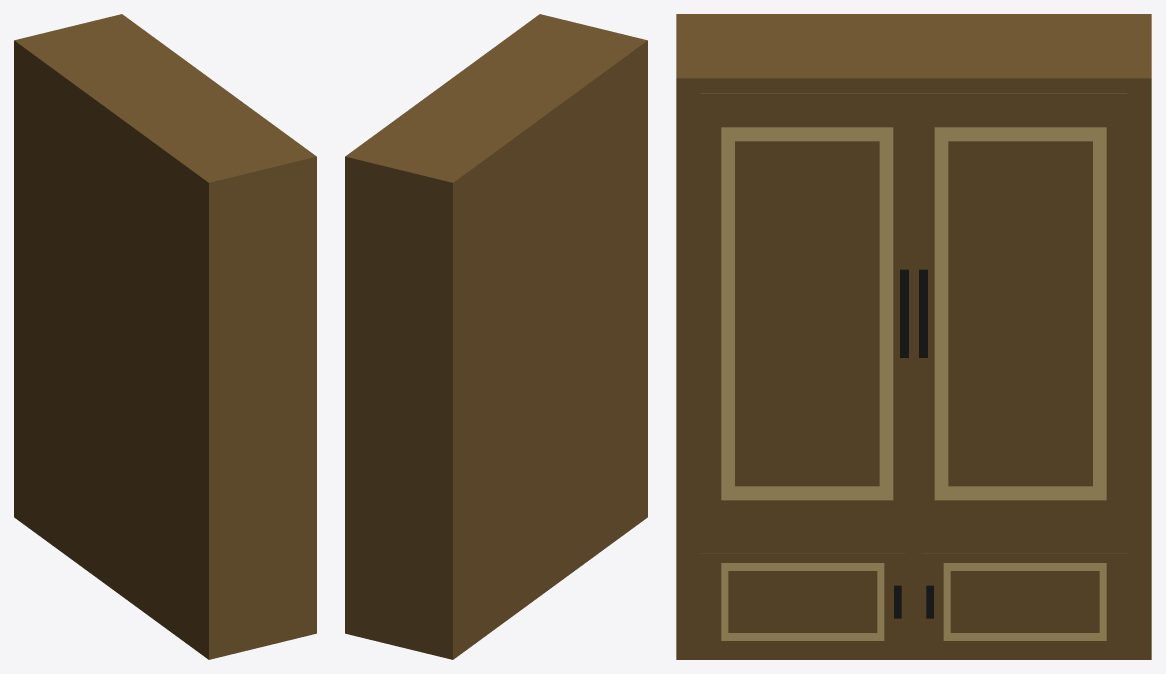
File: wardrobe.fbx
3 views of the same model, side by side, from view 1: azimuth 30°, elevation 25°; view 2: azimuth 150°, elevation 25°; view 3: azimuth 270°, elevation 25° (orthographic). The views are drawn at different scales.
Parts seen in each view (by area): view 1: wardrobe; view 2: wardrobe; view 3: doorRight, doorLeft, wardrobe, doorLowRight, doorLowLeft.
Part boxes in pixels (left/top/right/bottom): wardrobe: left=14, top=14, right=316, bottom=659; wardrobe: left=345, top=14, right=647, bottom=659; doorRight: left=700, top=93, right=913, bottom=533; doorLeft: left=914, top=93, right=1127, bottom=533; wardrobe: left=676, top=14, right=1151, bottom=659; doorLowRight: left=700, top=553, right=905, bottom=650; doorLowLeft: left=922, top=553, right=1127, bottom=650.
Bounding box in the file's own units: 129 × 540 × 400.
